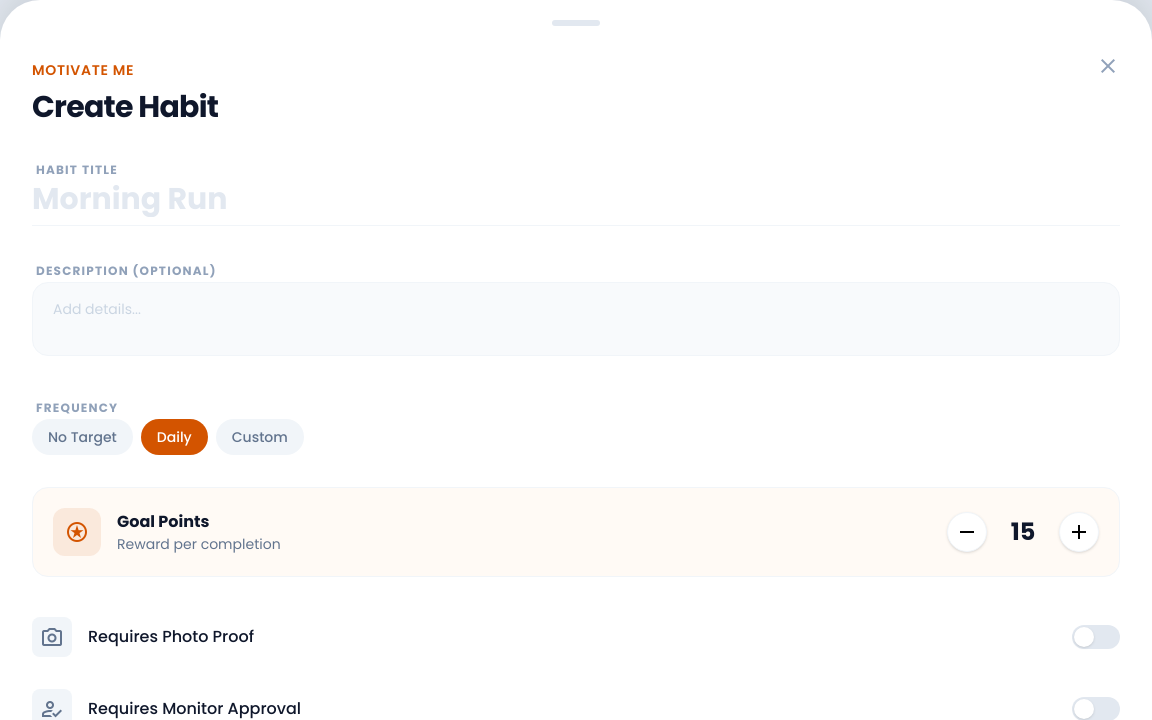
Test: CreateHabit › decrements points
Click the button named "Decrease points".
click(967, 532)  # box [947,512,987,552]
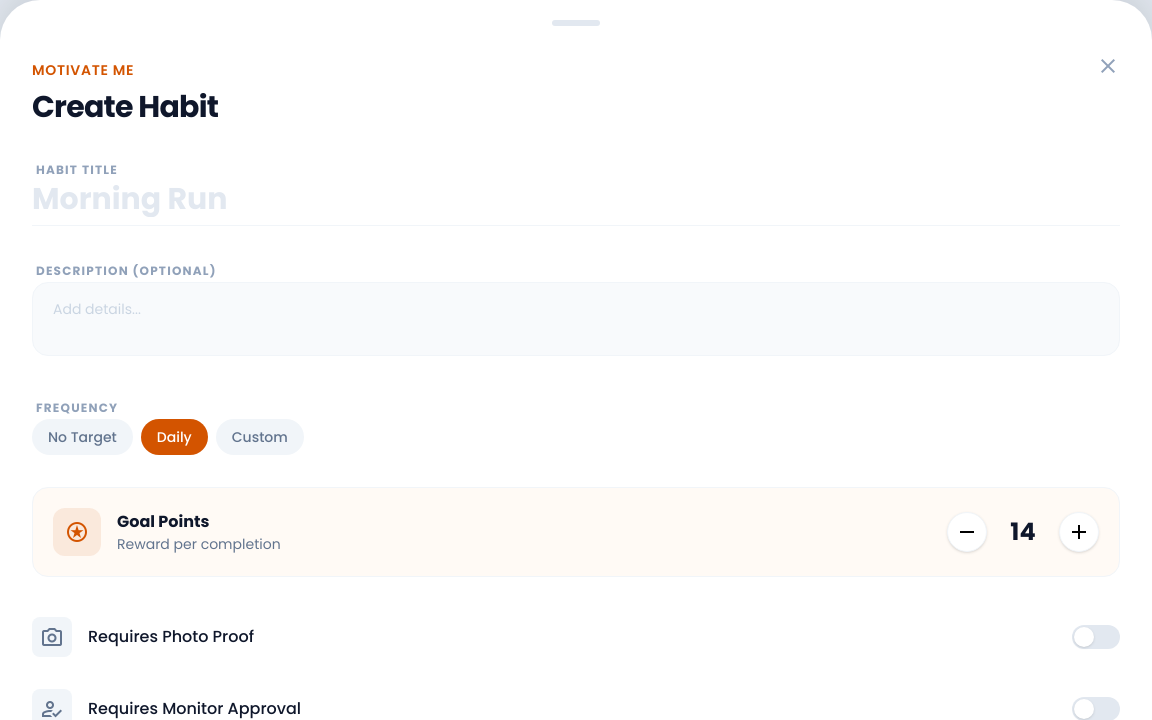
Expected: the text named "14 points" is shown, [1010,515,1036,548]
